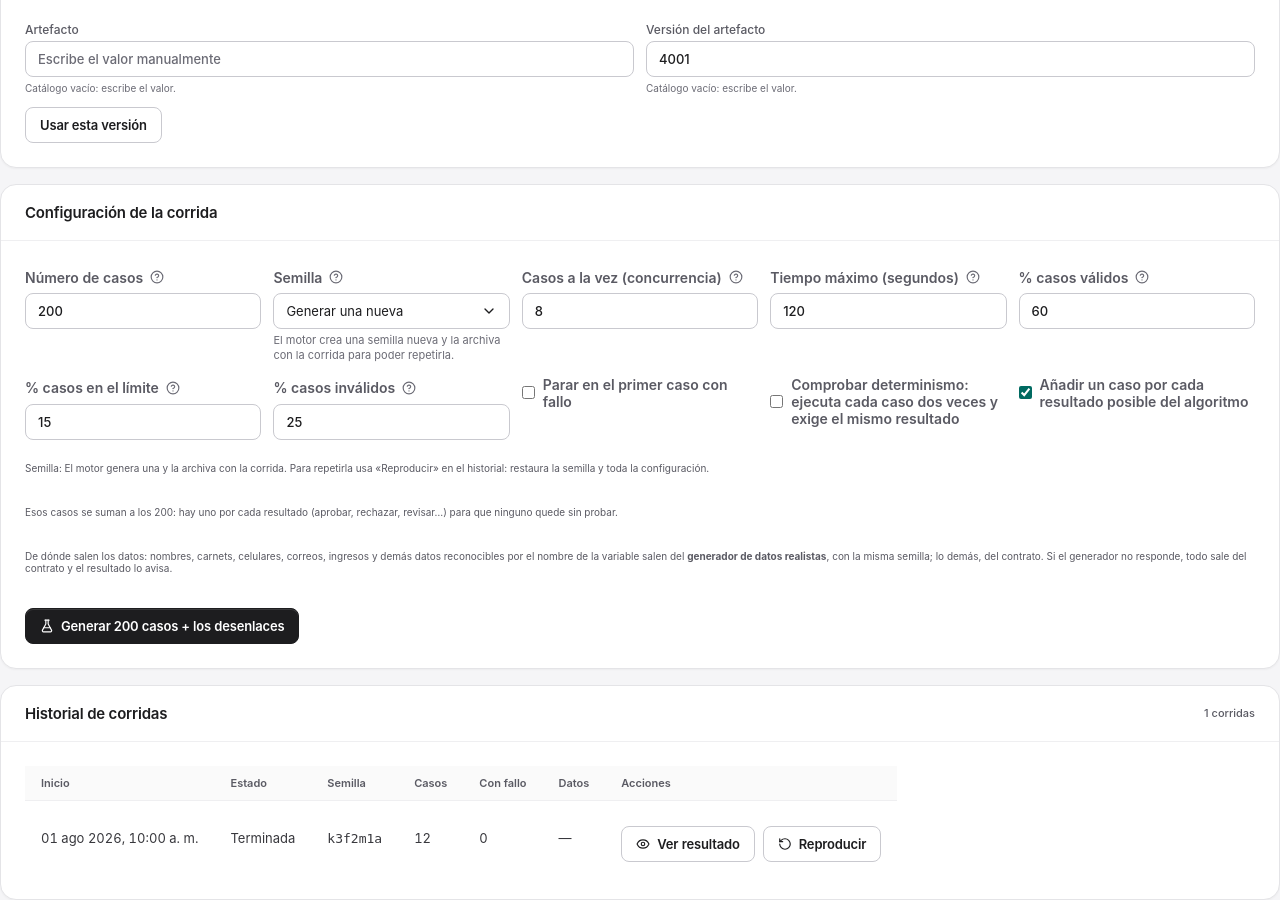
Test: QaLabPage › abrir una corrida del historial no anuncia que acaba de terminar
The image size is (1280, 900).
(page scrolled)
Click the button "Ver resultado".
click(688, 844)  # box [621,826,755,862]
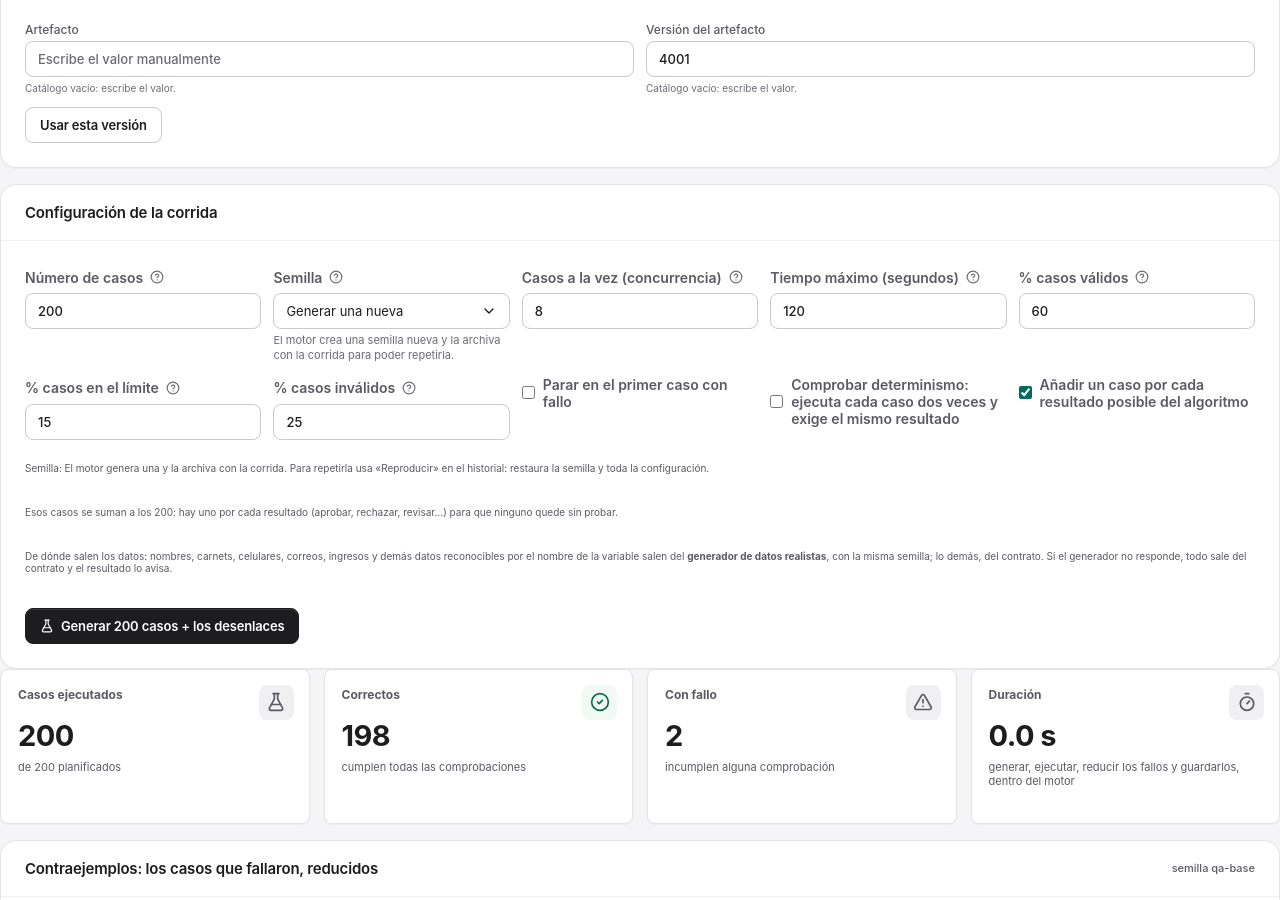
Now the heading "Contraejemplos: los casos que fallaron, reducidos" is shown, box [25,859,378,878]
